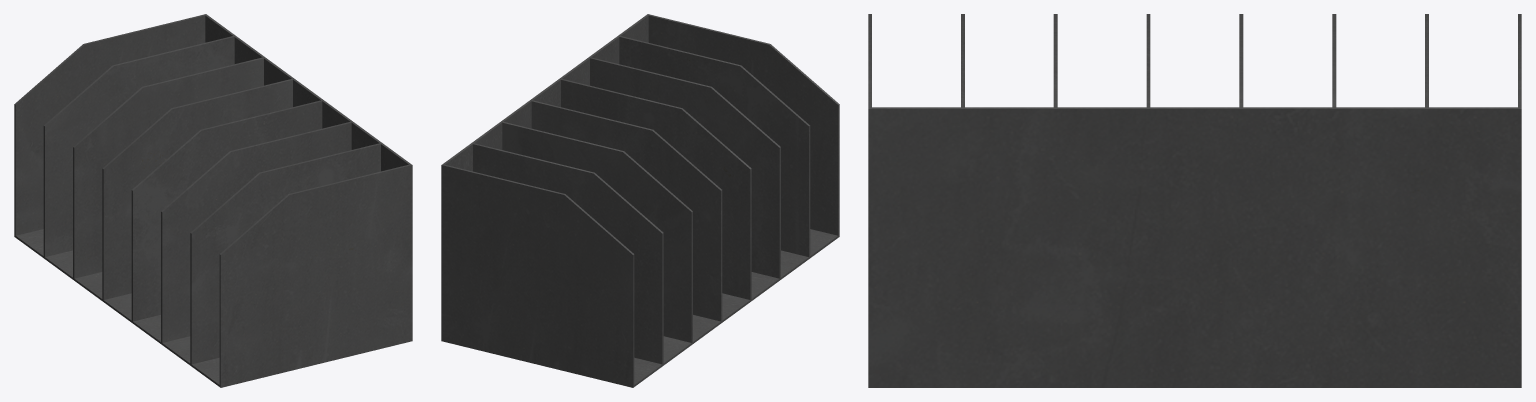
The model's file is SM_Standfolder01.FBX.
3 views of the same model, side by side, from view 1: azimuth 30°, elevation 25°; view 2: azimuth 150°, elevation 25°; view 3: azimuth 270°, elevation 25° (orthographic). The views are drawn at different scales.
Parts seen in each view (by area): view 1: Standfolder01; view 2: Standfolder01; view 3: Standfolder01.
Boxes of the visible parts, bbox=[...] form: Standfolder01: bbox=[14, 14, 412, 387]; Standfolder01: bbox=[441, 14, 839, 387]; Standfolder01: bbox=[868, 14, 1521, 387].
Size of the model in its own units: 16.24 by 14.26 by 30.27.
Materials: 1 (1 with a texture image).
